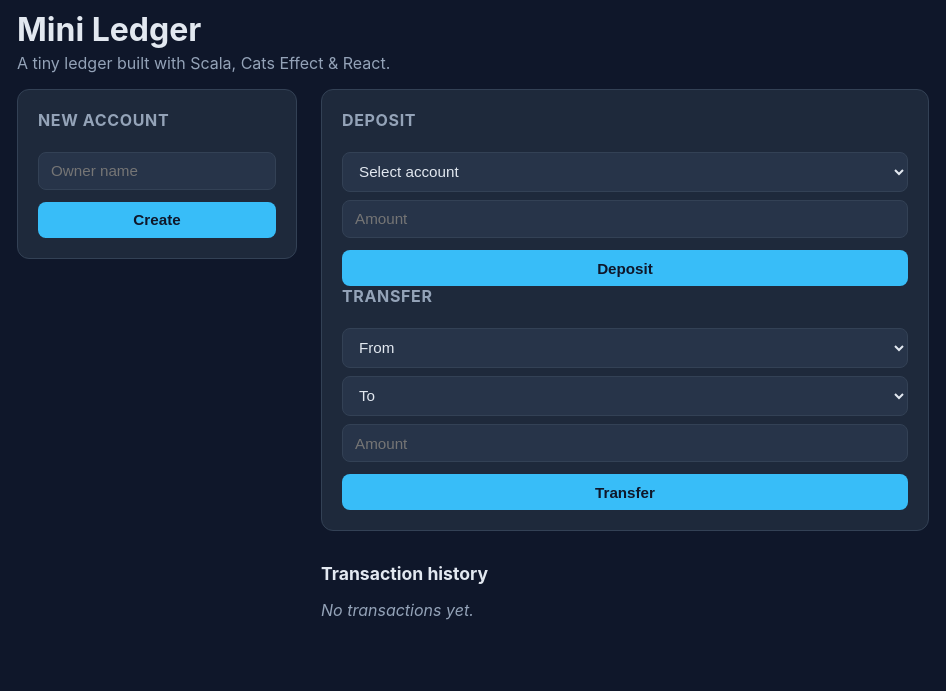
Test case: App › deposits, then refreshes the balance and the transaction history
In the field with placeholder "Owner name": (157, 171) [38,152,276,190], type "Alice"
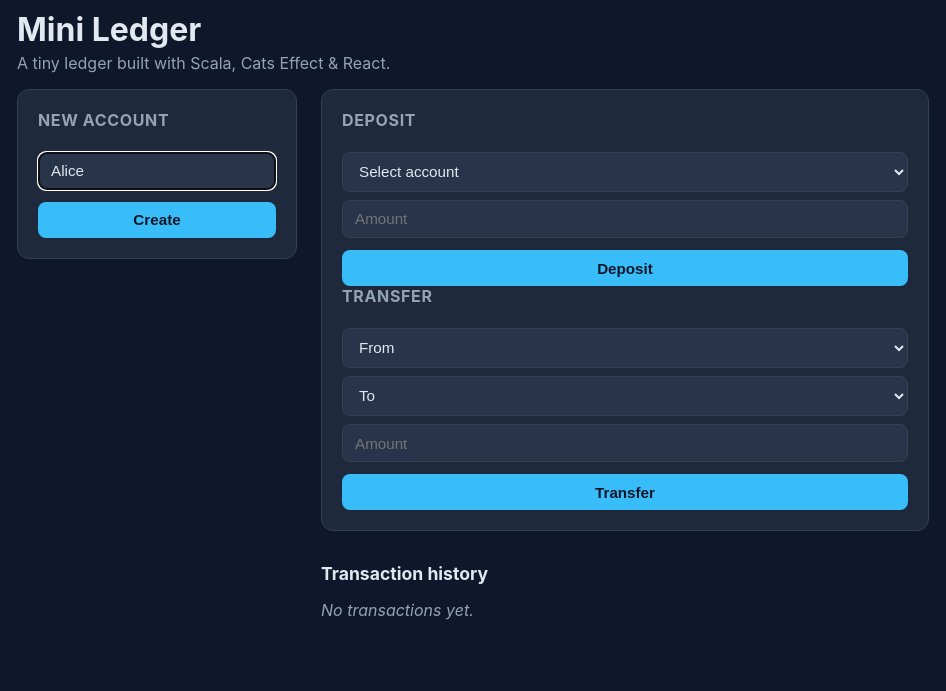
Click the button "Create": (157, 220) [38,202,276,238]
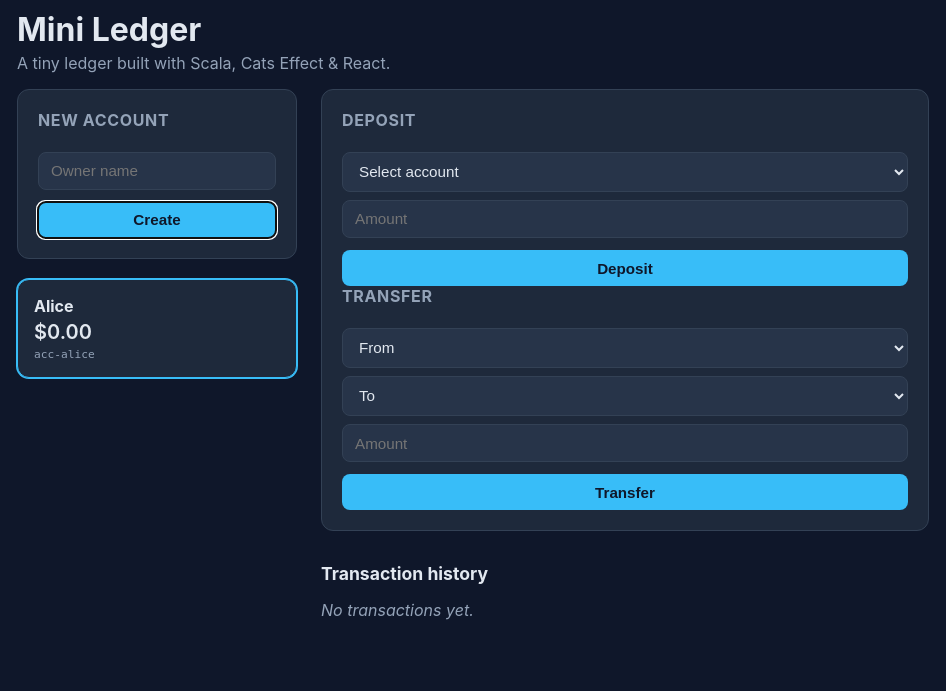
Select "Alice" in the dropdown named "Account to deposit into": (625, 172) [342,152,908,192]
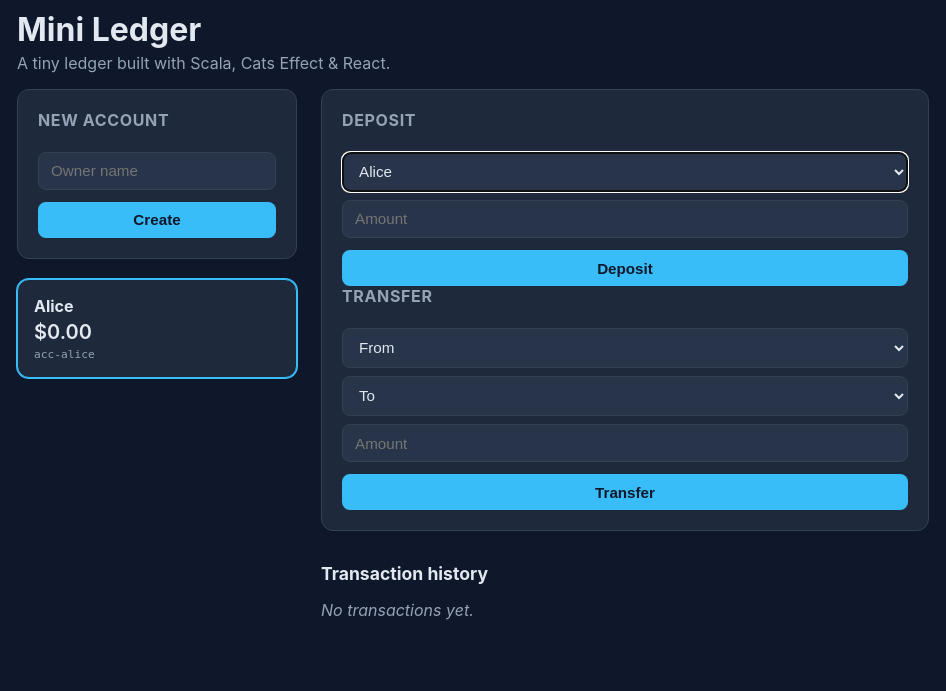
In the 1st number field with placeholder "Amount": (625, 219) [342,200,908,238], type "100"
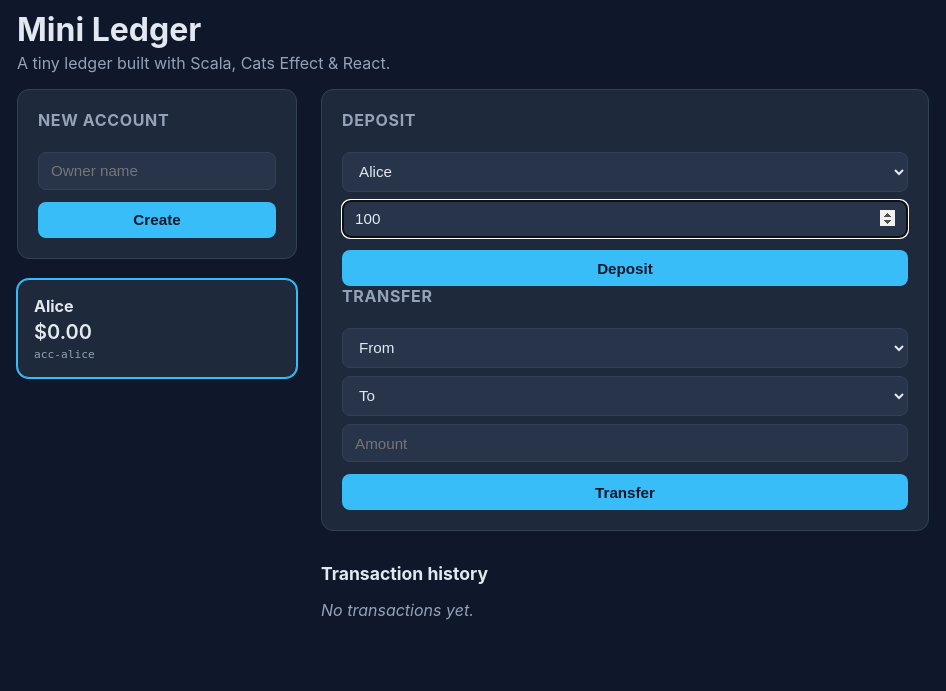
Click the button "Deposit": (625, 268) [342,250,908,286]
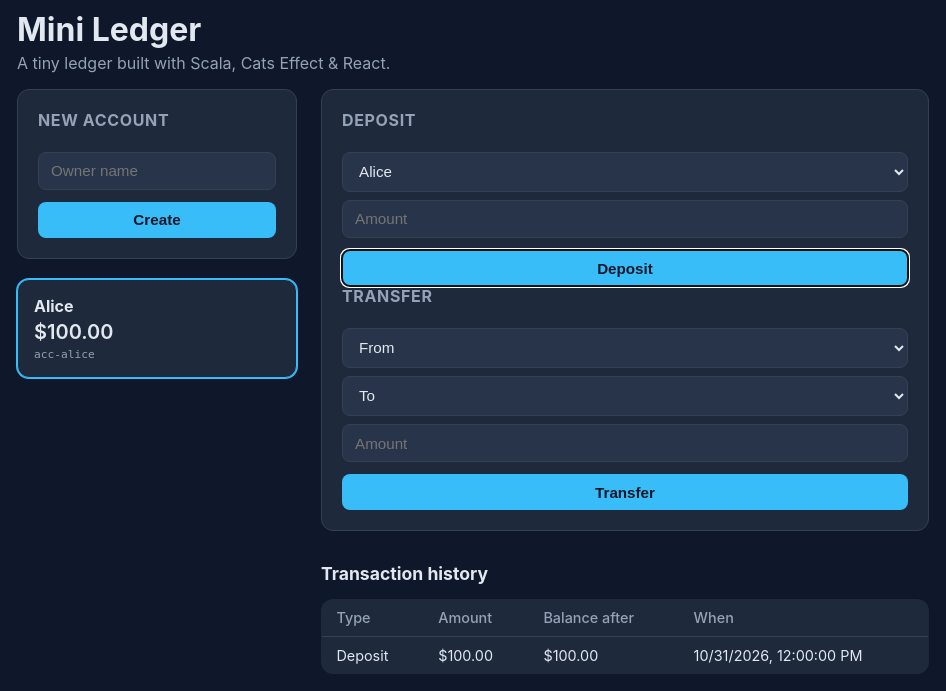
Check: the text "$100.00" is shown, box [34,320,114,344]
Check: the row "Deposit $100.00 $100.00 10/31/2026, 12:00:00 PM" is shown, box [322,637,928,674]
